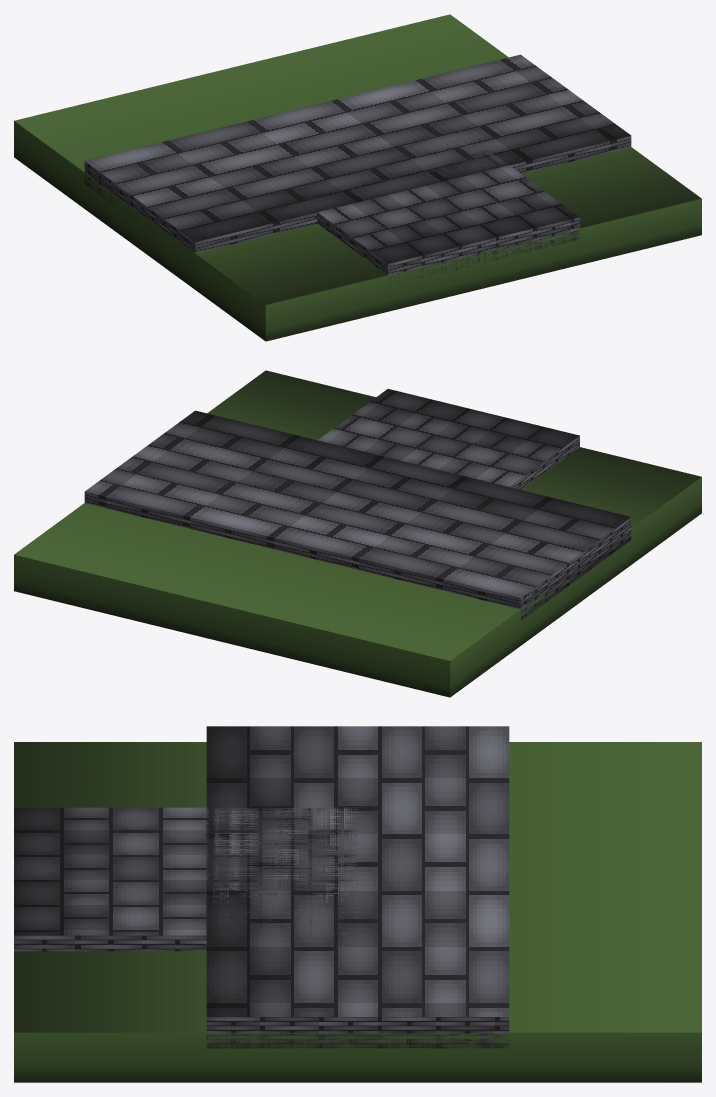
The model's file is path_tee.gltf.
3 renders of one model, top to bottom at view 1: azimuth 30°, elevation 25°; view 2: azimuth 150°, elevation 25°; view 3: azimuth 270°, elevation 25°, orthographic. The views are drawn at different scales.
Parts seen in each view (by area): view 1: path_tee; view 2: path_tee; view 3: path_tee.
Boxes of the visible parts, x1,y1,x2,y2 form: path_tee: (14,14,701,341); path_tee: (14,370,701,697); path_tee: (14,726,701,1082).
Bounding box in the file's own units: 1 × 0.105 × 1.
1 material, 1 textured.
